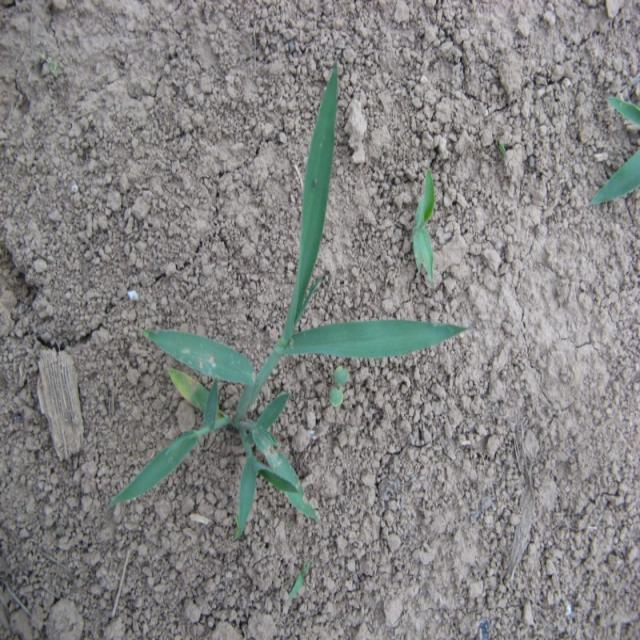bg: (112, 60, 468, 534)
